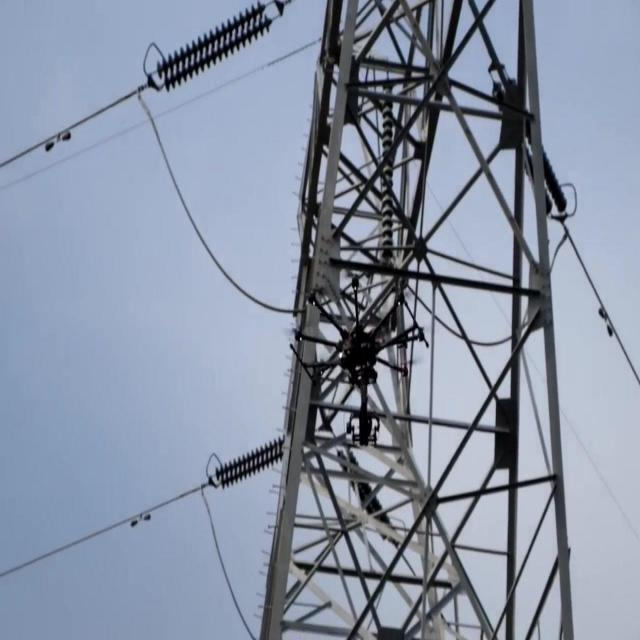UAV: (289, 276, 424, 446)
